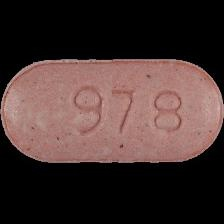0093-7178: (0, 0, 224, 224)
